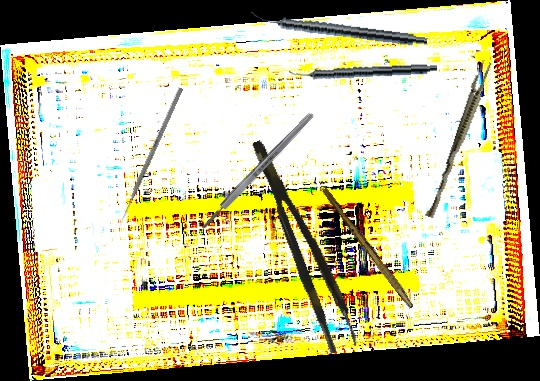Handpiece: (249, 10, 429, 48), (288, 60, 438, 82)
Pusher: (116, 87, 184, 228)
Scalpel Handle: (198, 110, 317, 232), (319, 187, 418, 309)
Tissue Forceps: (248, 132, 362, 355), (424, 58, 494, 221)
